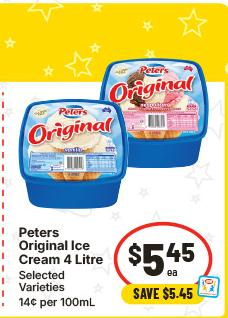description_block: (13, 222, 106, 270)
price_main: (117, 225, 210, 283)
product_image_block: (9, 54, 209, 212)
promo_text_block: (116, 280, 208, 308)
unit_price_block: (16, 294, 104, 310)
